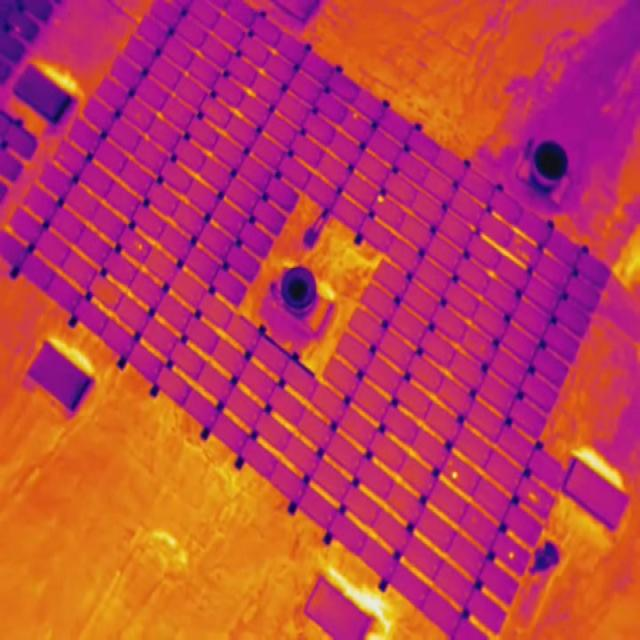Orange-Spots: (528, 491, 538, 502), (135, 240, 143, 250), (521, 252, 529, 261), (377, 195, 384, 204), (508, 552, 515, 560), (516, 237, 522, 245), (452, 471, 458, 479), (449, 460, 453, 468), (353, 113, 358, 119), (516, 248, 520, 255)
